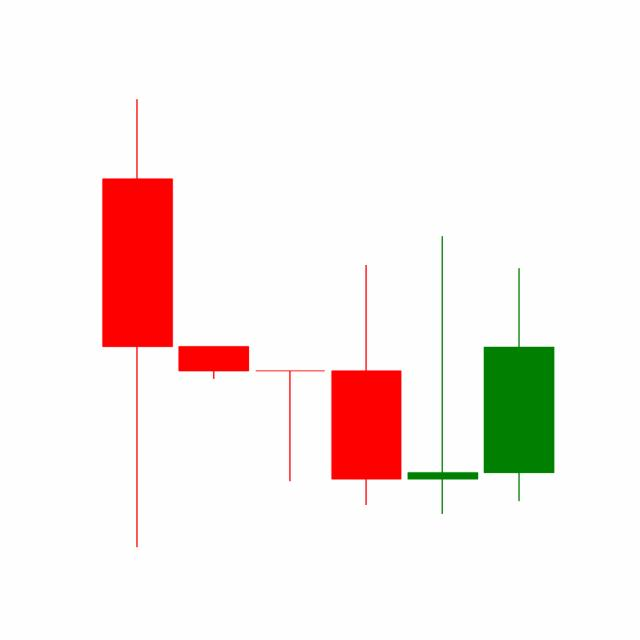Spinning Top: (403, 232, 481, 516)
